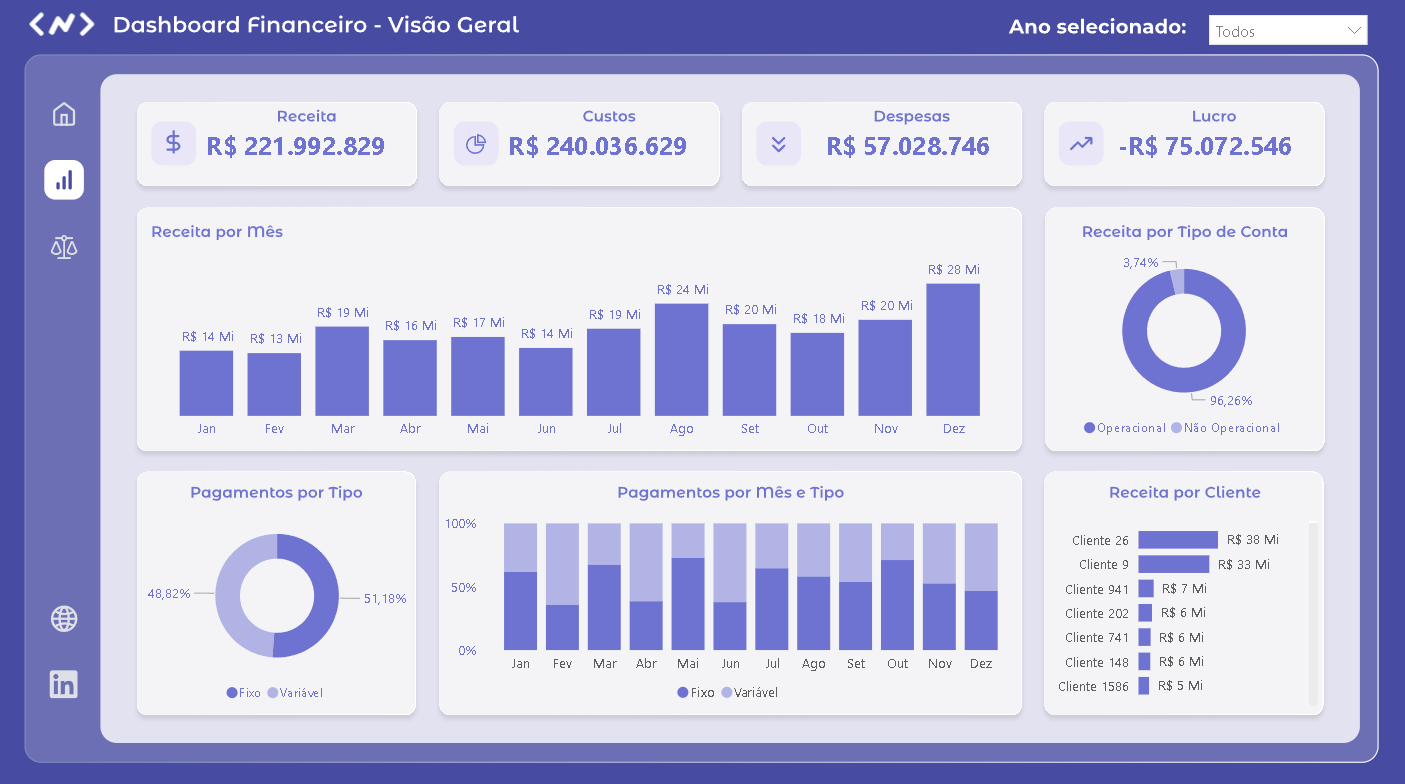

The page's visual inventory and layout, read from the dashboard file:
{"tool":"powerbi","page":{"name":"Visão Geral","canvas":[1280,720],"ordinal":1},"visuals":[{"type":"cardVisual","fields":{"Data":["_Medidas.Receitas"]},"box":[128.2,94.8,252.9,77.3],"z":0},{"type":"cardVisual","fields":{"Data":["_Medidas.Custo"]},"box":[403,94.8,252.9,77.3],"z":1000},{"type":"cardVisual","fields":{"Data":["_Medidas.Despesas"]},"box":[677.9,94.8,252.9,77.3],"z":2000},{"type":"cardVisual","fields":{"Data":["_Medidas.Lucro"]},"box":[952.7,94.8,252.9,77.3],"z":3000},{"type":"columnChart","fields":{"Category":["dCalendario.MesAbreviado"],"Y":["_Medidas.Receitas"]},"box":[136.1,223.9,787.6,186.1],"z":4000},{"type":"donutChart","fields":{"Category":["dPlanoContas.conta"],"Y":["_Medidas.Receitas"]},"box":[952.7,223.9,252.9,186.1],"z":5000},{"type":"donutChart","fields":{"Category":["dPlanoContas.tipo"],"Y":["_Medidas.Despesas"]},"box":[128.2,464.5,252.9,186.1],"z":6000},{"type":"hundredPercentStackedColumnChart","fields":{"Category":["dCalendario.MesAbreviado"],"Y":["_Medidas.Despesas"],"Series":["dPlanoContas.tipo"]},"box":[403,464.5,527.7,186.1],"z":7000},{"type":"clusteredBarChart","fields":{"Y":["_Medidas.Receitas"],"Category":["fRecebimentos.cliente"]},"box":[953,464,253,186],"z":8000},{"type":"slicer","fields":{"Values":["dCalendario.Ano"]},"box":[1091.4,6.1,164.2,43],"z":9000},{"type":"actionButton","box":[40.4,87.8,40.4,38.6],"z":10000},{"type":"actionButton","box":[40.4,210.7,40.4,38.6],"z":11000},{"type":"actionButton","box":[40.4,605,40.4,38.6],"z":12000}]}

Visuals, with their boxes on the page's 1280x720 design canvas (x1, y1, x2, y2). These are canvas units, not pixel positions in the 1405x784 screenshot, which may show the page scaled, cropped or inside an application window:
cardVisual - _Medidas.Receitas: bbox=[128, 95, 381, 172]
cardVisual - _Medidas.Custo: bbox=[403, 95, 656, 172]
cardVisual - _Medidas.Despesas: bbox=[678, 95, 931, 172]
cardVisual - _Medidas.Lucro: bbox=[953, 95, 1206, 172]
columnChart - dCalendario.MesAbreviado x _Medidas.Receitas: bbox=[136, 224, 924, 410]
donutChart - dPlanoContas.conta x _Medidas.Receitas: bbox=[953, 224, 1206, 410]
donutChart - dPlanoContas.tipo x _Medidas.Despesas: bbox=[128, 464, 381, 651]
hundredPercentStackedColumnChart - dCalendario.MesAbreviado x _Medidas.Despesas: bbox=[403, 464, 931, 651]
clusteredBarChart - _Medidas.Receitas x fRecebimentos.cliente: bbox=[953, 464, 1206, 650]
slicer - dCalendario.Ano: bbox=[1091, 6, 1256, 49]
actionButton: bbox=[40, 88, 81, 126]
actionButton: bbox=[40, 211, 81, 249]
actionButton: bbox=[40, 605, 81, 644]
